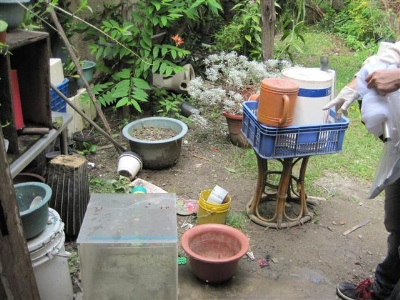bowl: (181, 222, 250, 283), (122, 116, 189, 169), (14, 182, 53, 239), (118, 154, 143, 179)
bucket: (281, 66, 334, 127), (258, 78, 300, 128), (198, 189, 231, 223)
toilet: (155, 63, 195, 94)
